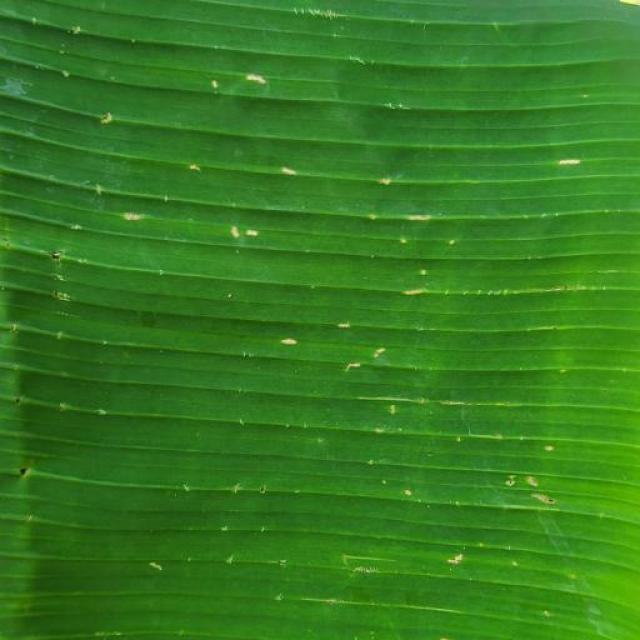Black_rot: (70, 56, 628, 614)
